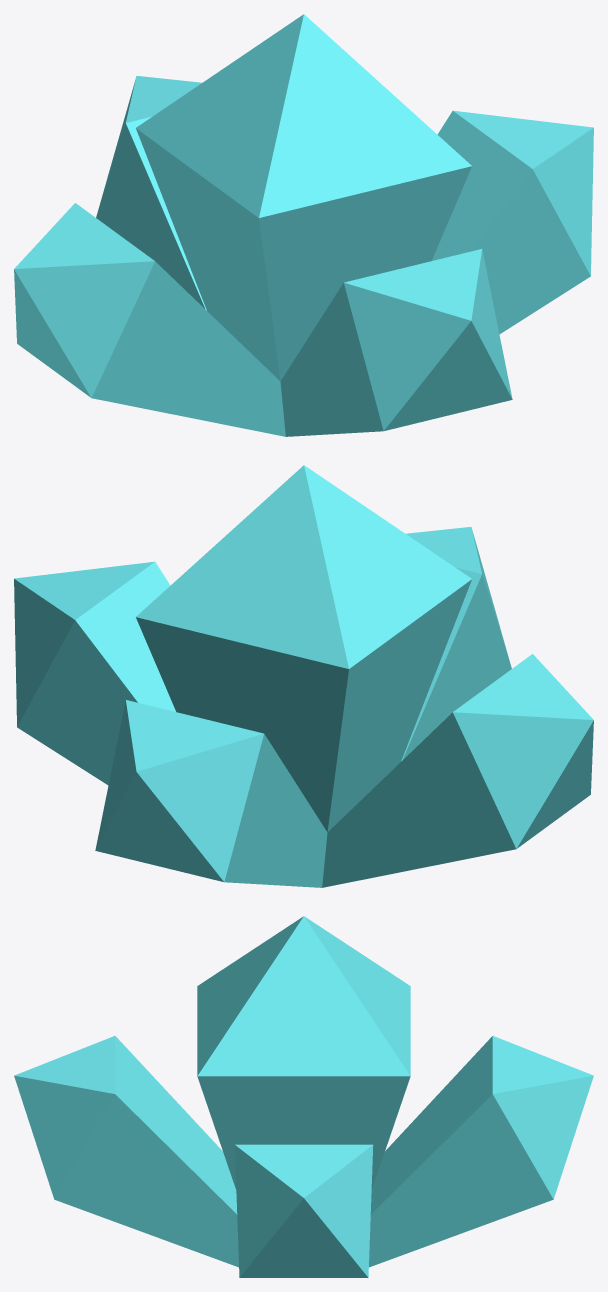
Rendered from CCrystalCluster.fbx.
3 renders of one model, top to bottom at view 1: azimuth 30°, elevation 25°; view 2: azimuth 150°, elevation 25°; view 3: azimuth 270°, elevation 25°, orthographic. The views are drawn at different scales.
Visible parts, largest first — view 1: Crystal; view 2: Crystal; view 3: Crystal.
Boxes of the visible parts, left/top/right/bottom form: Crystal: left=14, top=14, right=593, bottom=436; Crystal: left=14, top=465, right=593, bottom=887; Crystal: left=14, top=916, right=593, bottom=1277.
Size of the model in its own units: 544 by 353 by 544.
